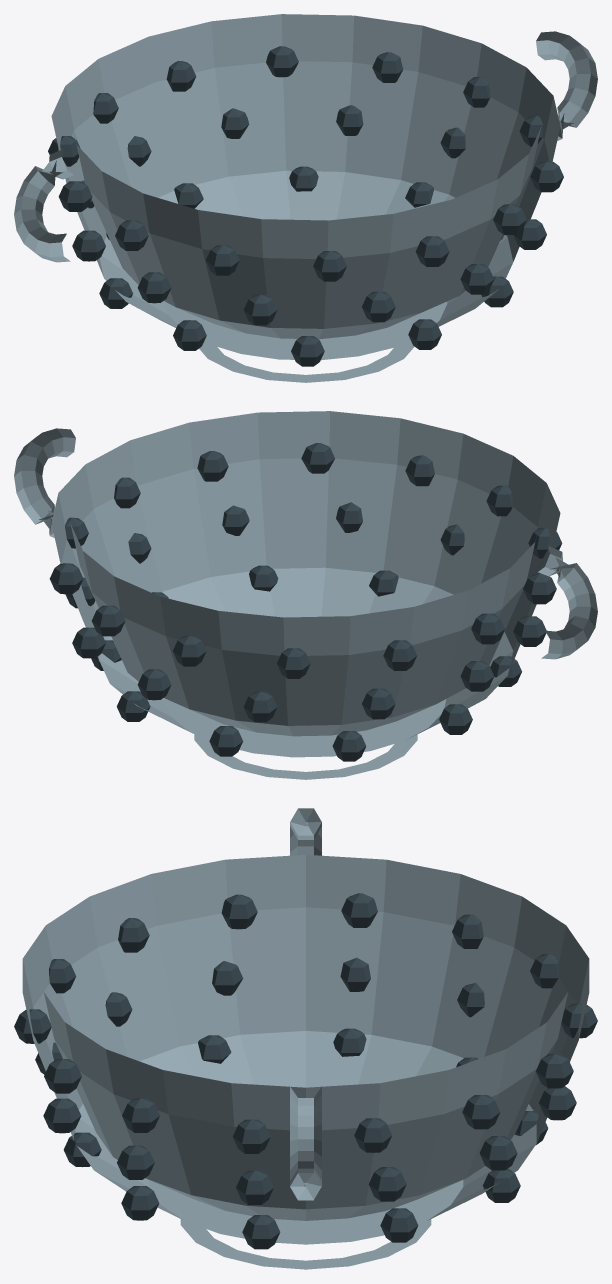
The model's file is durkslag.glb.
3 views of the same model, one above another, from view 1: azimuth 30°, elevation 25°; view 2: azimuth 150°, elevation 25°; view 3: azimuth 270°, elevation 25° (orthographic). The views are drawn at different scales.
Visible parts, largest first — view 1: durkslag; view 2: durkslag; view 3: durkslag.
Part boxes in pixels (bbox=[...]): durkslag: bbox=[14, 14, 597, 382]; durkslag: bbox=[14, 411, 597, 779]; durkslag: bbox=[14, 808, 597, 1269].
Bounding box in the file's own units: 0.706 × 0.2828 × 0.5509.
